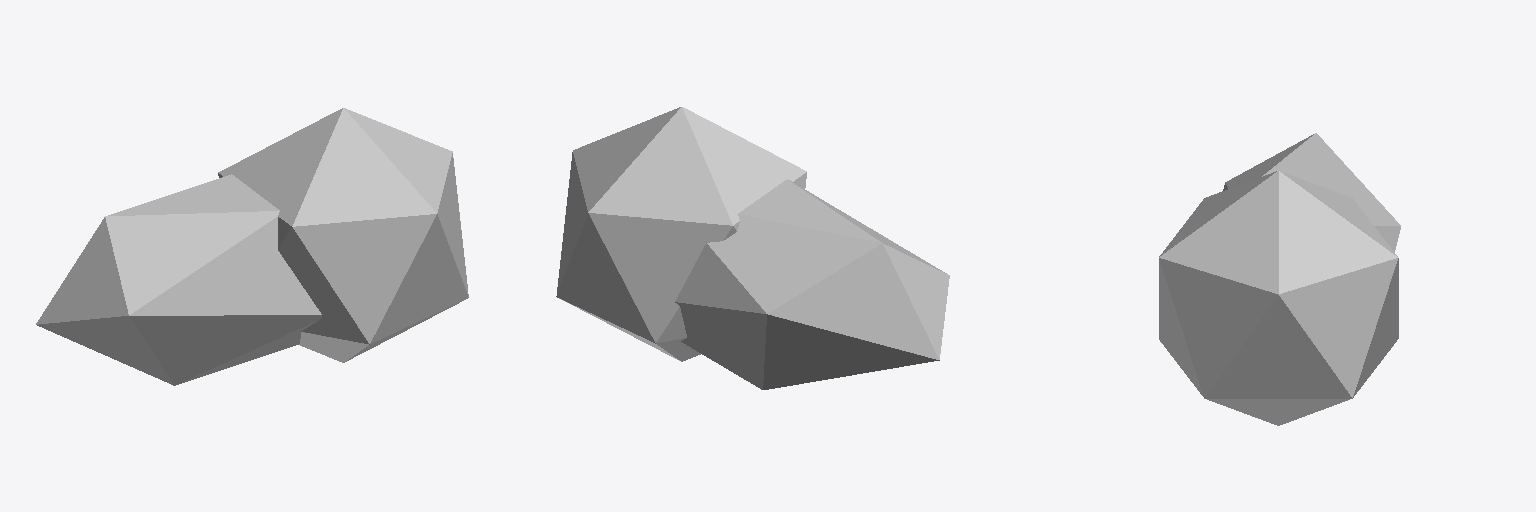
File: cloud.obj
The picture shows the model from 3 angles: view 1: azimuth 30°, elevation 25°; view 2: azimuth 150°, elevation 25°; view 3: azimuth 270°, elevation 25°; orthographic projection.
Parts seen in each view (by area): view 1: cloud.003_Icosphere.003; view 2: cloud.003_Icosphere.003; view 3: cloud.003_Icosphere.003.
Boxes of the visible parts, <box> form: cloud.003_Icosphere.003: <box>36,108,468,385</box>; cloud.003_Icosphere.003: <box>556,107,949,389</box>; cloud.003_Icosphere.003: <box>1159,133,1400,425</box>.
Bounding box in the file's own units: 32.22 × 20.07 × 17.28.